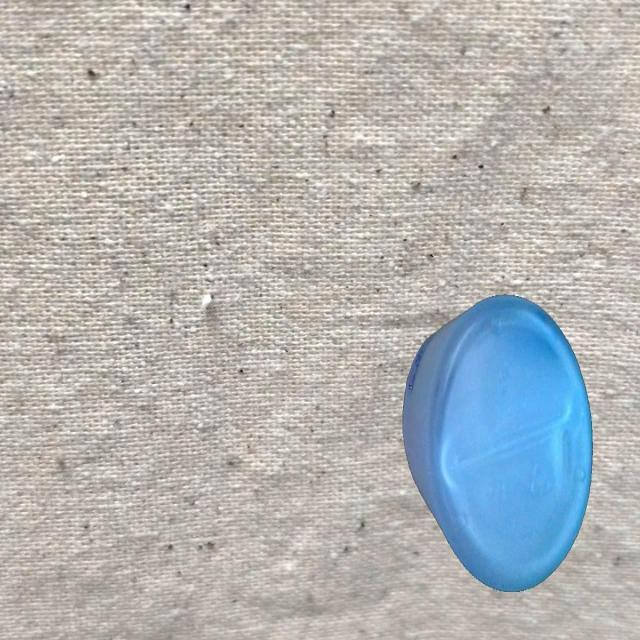bottle: (401, 289, 595, 597)
